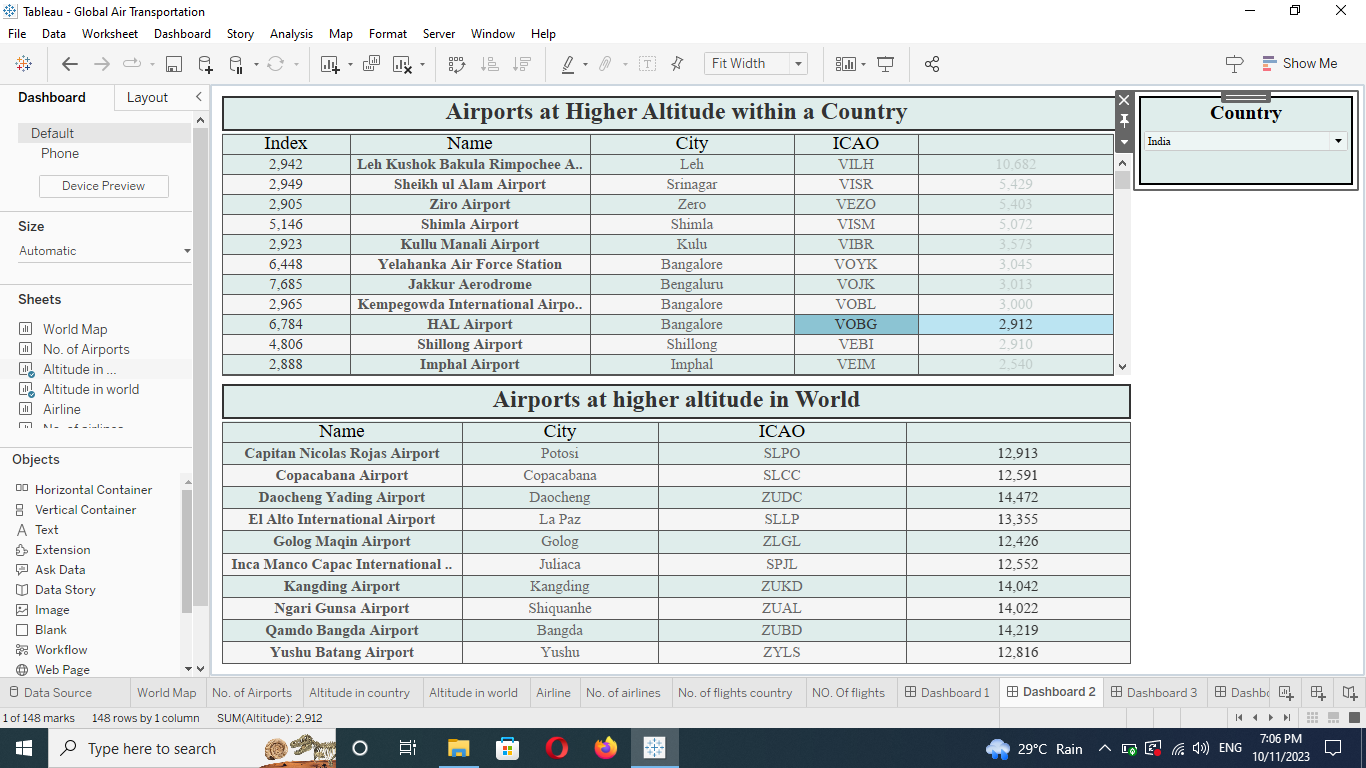

The dashboard page shown, as its layout file describes it:
{"tool":"tableau","page":{"name":"Dashboard 2","canvas":[1000,1000],"units":"permille","ordinal":1},"visuals":[{"type":"worksheet","title":"Altitude in country","mark":"Automatic","rows":["index (routes.csv)","Name (airports.csv)","City","ICAO (airports.csv)"],"box":[6.9,13.5,793.9,486.5]},{"type":"filter","title":"Altitude in country","param":"[federated.0mnjfow1o9cxgx1b9vua4074vz4p].[none:Country (airports.csv):nk]","box":[800.9,13.5,192.2,163.8]},{"type":"worksheet","title":"Altitude in world","mark":"Automatic","rows":["Name (airports.csv)","City","ICAO (airports.csv)"],"box":[6.9,500,793.9,486.5]}]}

Visuals, with their boxes on the dashboard's canvas, which has no fixed pixel size, in thousandths of its width and height (x1, y1, x2, y2). These are canvas units, not pixel positions in the 1366x768 screenshot, which may show the page scaled, cropped or inside an application window:
"Altitude in country" worksheet: <box>7,14,801,500</box>
"Altitude in country" filter: <box>801,14,993,177</box>
"Altitude in world" worksheet: <box>7,500,801,986</box>
